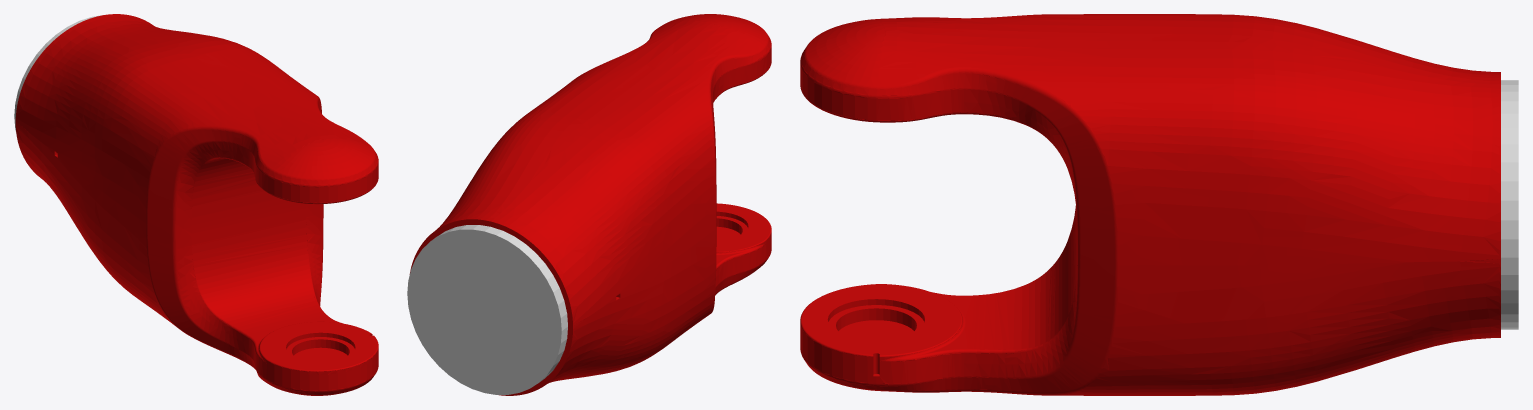
The picture shows the model from 3 angles, left to right: view 1: azimuth 30°, elevation 25°; view 2: azimuth 150°, elevation 25°; view 3: azimuth 270°, elevation 25°; orthographic projection. The views are drawn at different scales.
Visible parts, largest first — view 1: Link5; view 2: Link5; view 3: Link5.
Part boxes in pixels (<box>): Link5: <box>14,14,378,395</box>; Link5: <box>407,14,771,395</box>; Link5: <box>800,14,1518,395</box>.
Size of the model in its own units: 0.088 by 0.117 by 0.2215.
